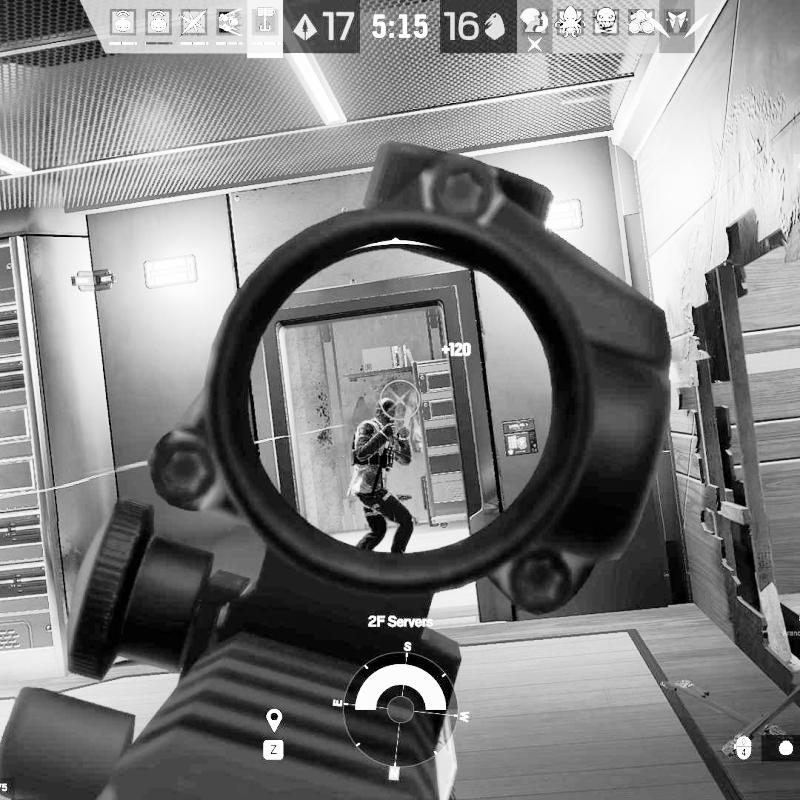Character: (349, 398, 415, 554)
Head: (374, 400, 398, 425)
